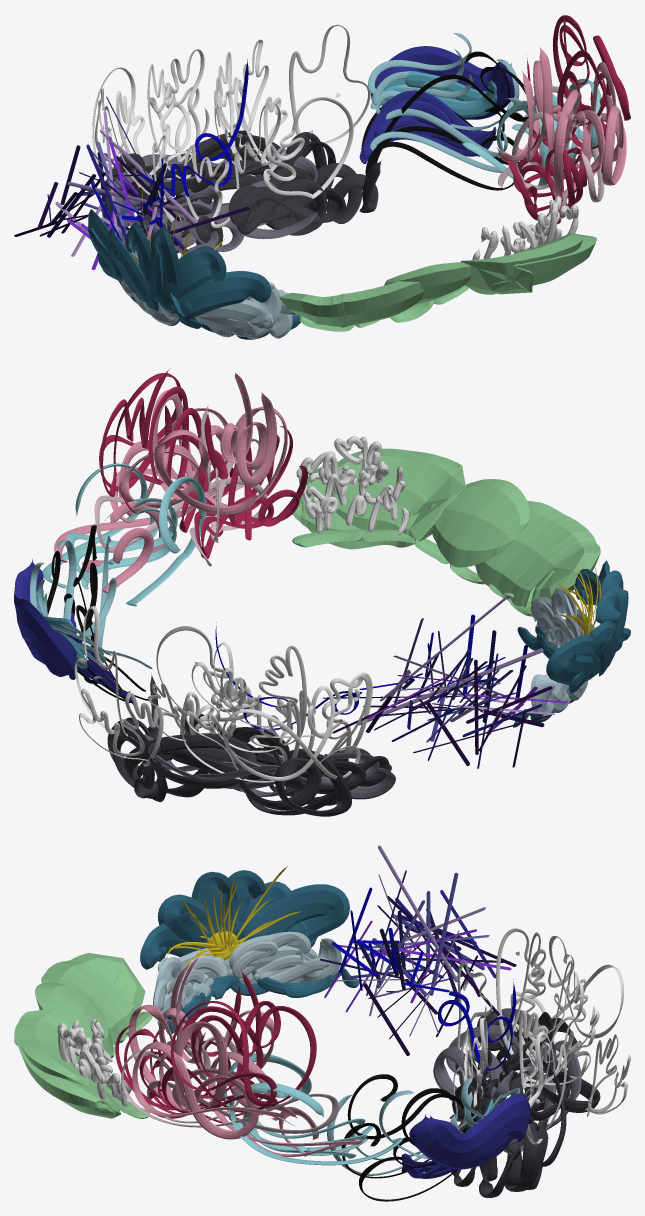
Rendered from quill03.fbx.
3 views of the same model, one above another, from view 1: azimuth 30°, elevation 25°; view 2: azimuth 150°, elevation 25°; view 3: azimuth 270°, elevation 25° (orthographic). The views are drawn at different scales.
Visible parts, largest first — view 1: NewLayer3, NewLayer0, NewLayer2, NewLayer1, NewLayer4; view 2: NewLayer3, NewLayer2, NewLayer0, NewLayer1, NewLayer4; view 3: NewLayer3, NewLayer0, NewLayer1, NewLayer2, NewLayer4.
Boxes of the visible parts, bbox=[...] form: NewLayer3: bbox=[101, 15, 630, 331]; NewLayer0: bbox=[88, 187, 300, 339]; NewLayer2: bbox=[92, 24, 370, 231]; NewLayer1: bbox=[14, 59, 249, 269]; NewLayer4: bbox=[472, 196, 578, 259]; NewLayer3: bbox=[14, 369, 600, 816]; NewLayer2: bbox=[74, 606, 372, 782]; NewLayer0: bbox=[513, 560, 630, 727]; NewLayer1: bbox=[215, 594, 568, 768]; NewLayer4: bbox=[296, 436, 408, 534]; NewLayer3: bbox=[14, 953, 600, 1201]; NewLayer0: bbox=[140, 866, 359, 1033]; NewLayer1: bbox=[320, 845, 516, 1070]; NewLayer2: bbox=[453, 928, 630, 1144]; NewLayer4: bbox=[57, 1019, 131, 1106].
Size of the model in its own units: 2.93 by 1.55 by 3.07.
